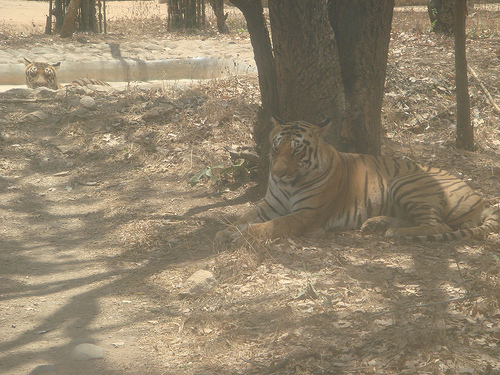Tigre: (232, 116, 479, 272), (13, 53, 119, 99)
